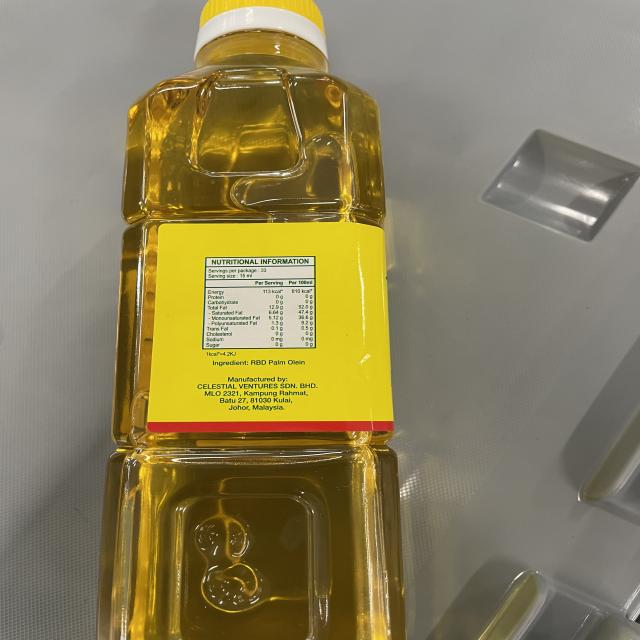object_name: (126, 14, 389, 640)
